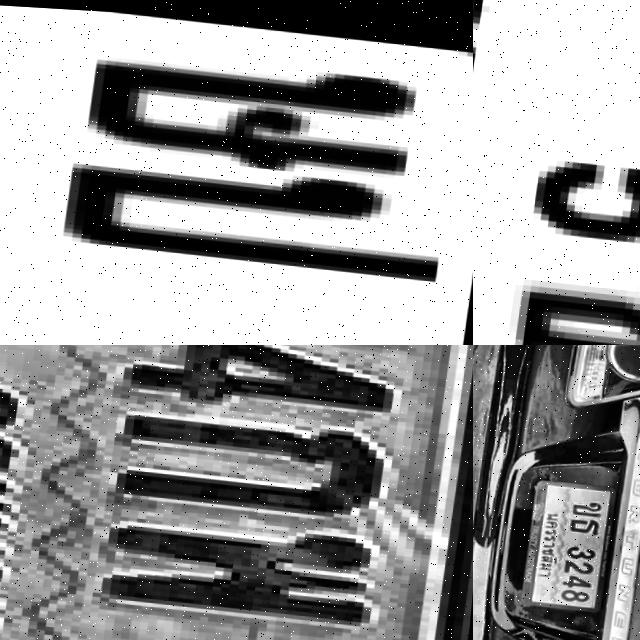license-plate: (0, 0, 473, 345), (0, 345, 473, 640), (473, 0, 640, 345), (523, 475, 627, 610)
